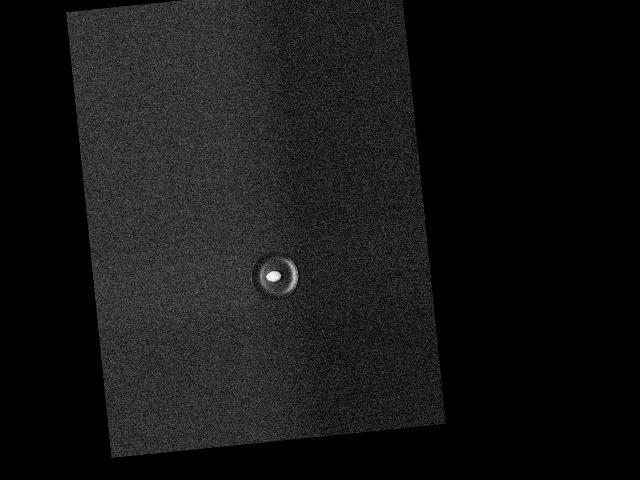egg: (266, 270, 282, 282)
